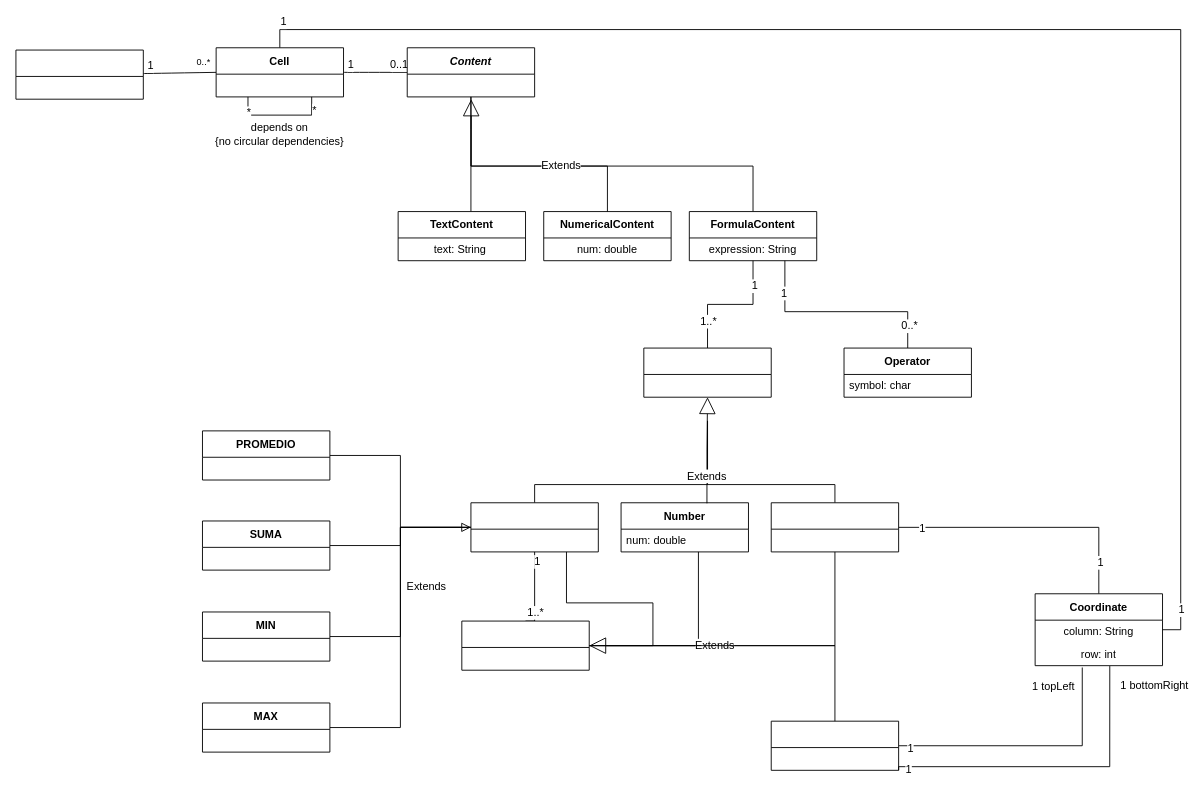
Image size: 1204x791. Some labels were removed from this diagram. The shapes that lost their labels are listed below. From the top down, each one's centre as x and y in pixels, then its label:
At [79,74]: "Spreadsheet".
At [707,372]: "Operand".
At [534,527]: "Function".
At [834,527]: "CellReference".
At [525,645]: "Argument".
At [834,745]: "Range".
